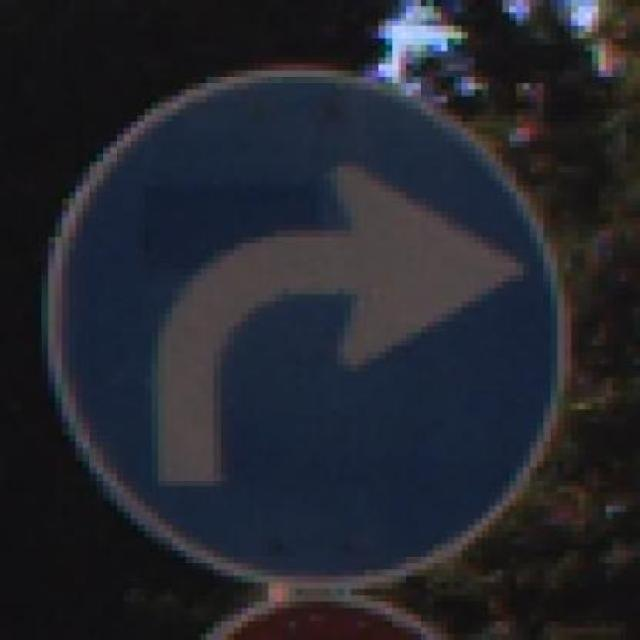Turn right ahead: (34, 51, 586, 589)
